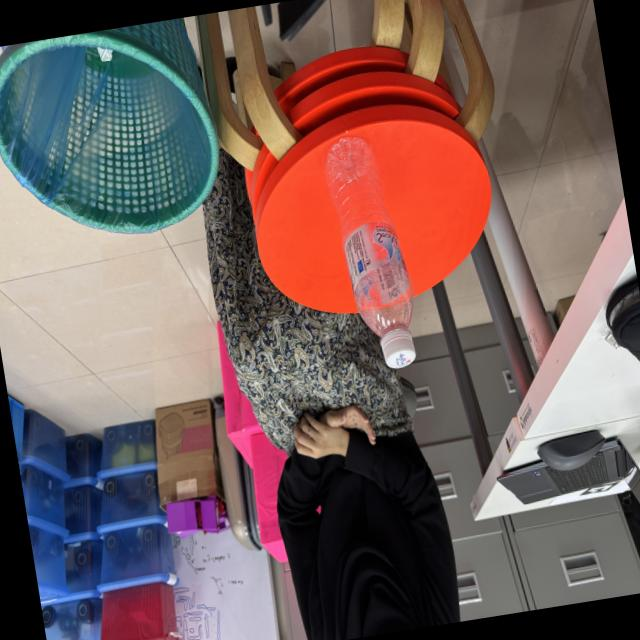dustbin: (0, 14, 240, 265)
plastic_bottle: (314, 114, 430, 386)
